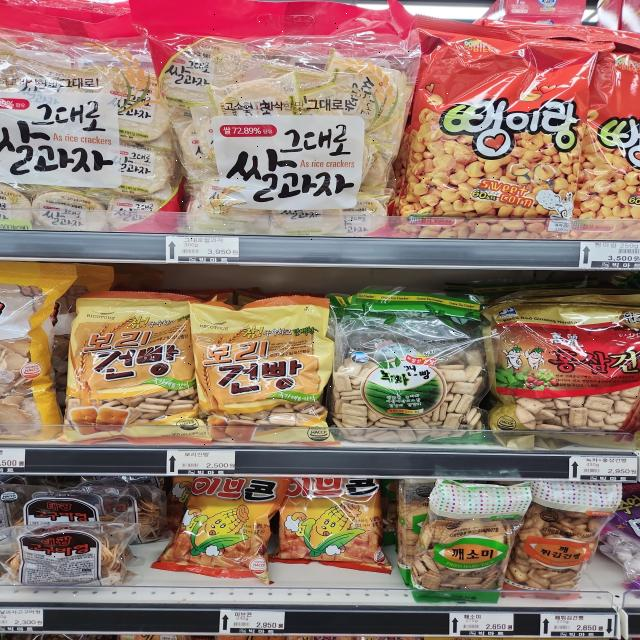product: (137, 11, 414, 251), (411, 24, 592, 242), (480, 294, 640, 458), (329, 292, 493, 450), (66, 294, 206, 449), (197, 299, 330, 442), (414, 490, 521, 602), (0, 527, 148, 602)
